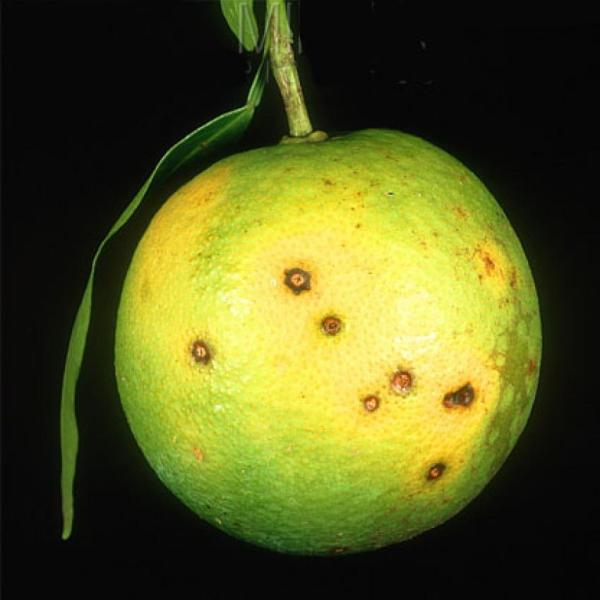Trips: (108, 122, 554, 570)
